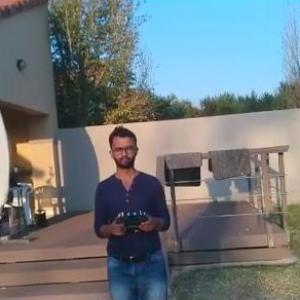follow: (89, 122, 178, 299)
